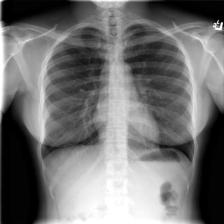normal: (34, 20, 196, 189)
